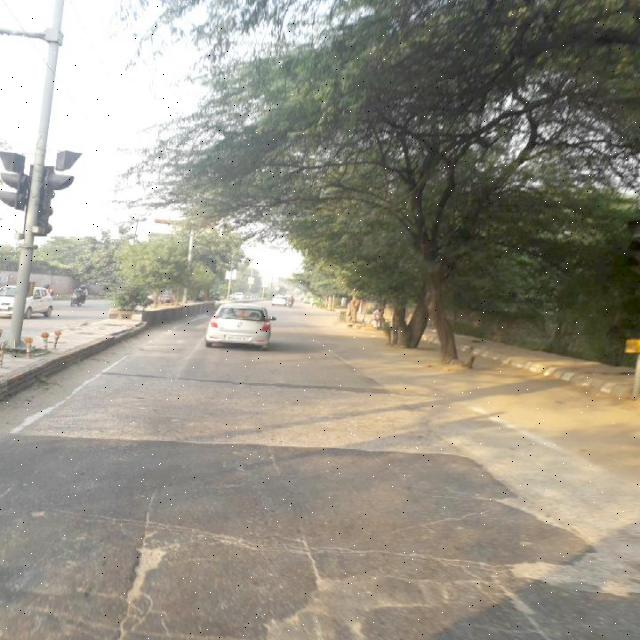D00: (113, 479, 178, 626), (260, 442, 324, 588)
D10: (30, 501, 504, 582)
D40: (511, 524, 633, 610), (282, 550, 404, 636), (116, 533, 172, 626)
